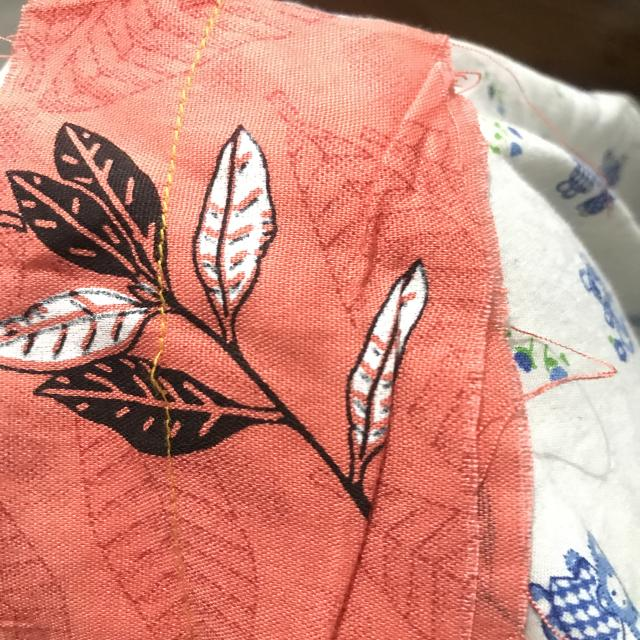good: (154, 130, 184, 212)
skip: (133, 325, 185, 422)
